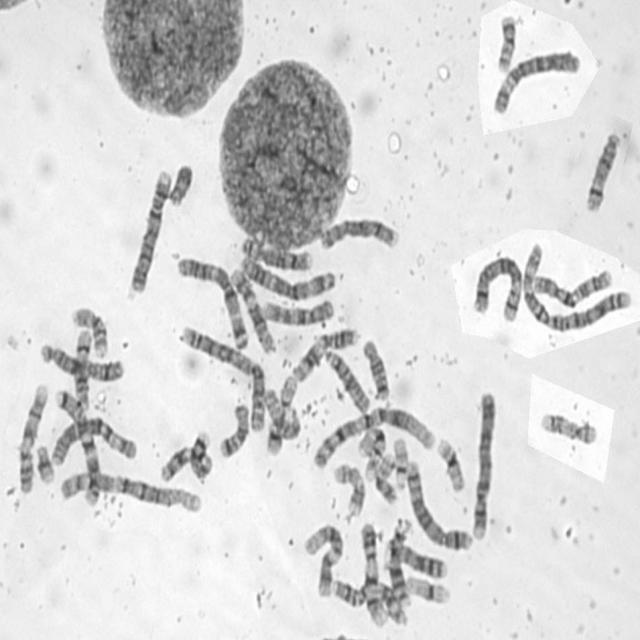A1: (310, 400, 438, 471), (58, 467, 205, 516)
A2: (521, 241, 634, 336), (178, 320, 268, 436)
A3: (174, 253, 251, 353), (237, 254, 338, 302)
B4: (125, 166, 174, 299), (468, 387, 500, 542)
B5: (403, 455, 474, 553), (470, 250, 524, 324)
C10: (528, 264, 615, 308), (260, 296, 336, 326)
C11: (329, 573, 410, 630), (290, 323, 362, 383)
C12: (228, 264, 279, 356), (300, 519, 345, 601)
C6: (490, 47, 582, 117), (49, 411, 139, 468)
C7: (50, 383, 103, 508), (160, 429, 215, 485)
C8: (317, 211, 401, 253), (239, 233, 314, 273)
C9: (15, 379, 50, 496), (358, 519, 388, 630)
D13: (385, 513, 415, 608), (382, 538, 448, 581)
D14: (582, 125, 624, 213), (70, 324, 93, 414)
D15: (321, 346, 373, 417), (261, 382, 302, 440)
E16: (68, 302, 109, 359), (355, 418, 388, 481)
E17: (536, 406, 601, 447), (330, 460, 368, 517)
E18: (360, 334, 392, 403), (216, 399, 250, 461)
F19: (433, 434, 466, 494), (403, 572, 452, 606)
F20: (493, 11, 519, 75), (372, 448, 400, 505)
G21: (33, 440, 56, 486), (264, 415, 284, 457)
G22: (390, 432, 410, 492), (278, 372, 299, 411)
X: (37, 341, 126, 384)
Y: (167, 160, 195, 207)
